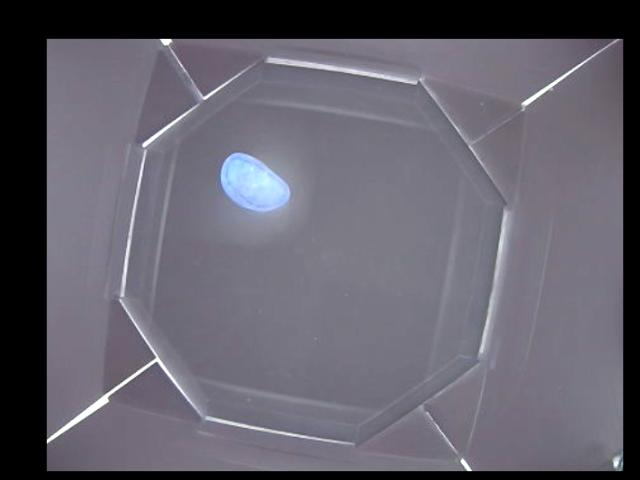Pebble: (218, 152, 290, 210)
